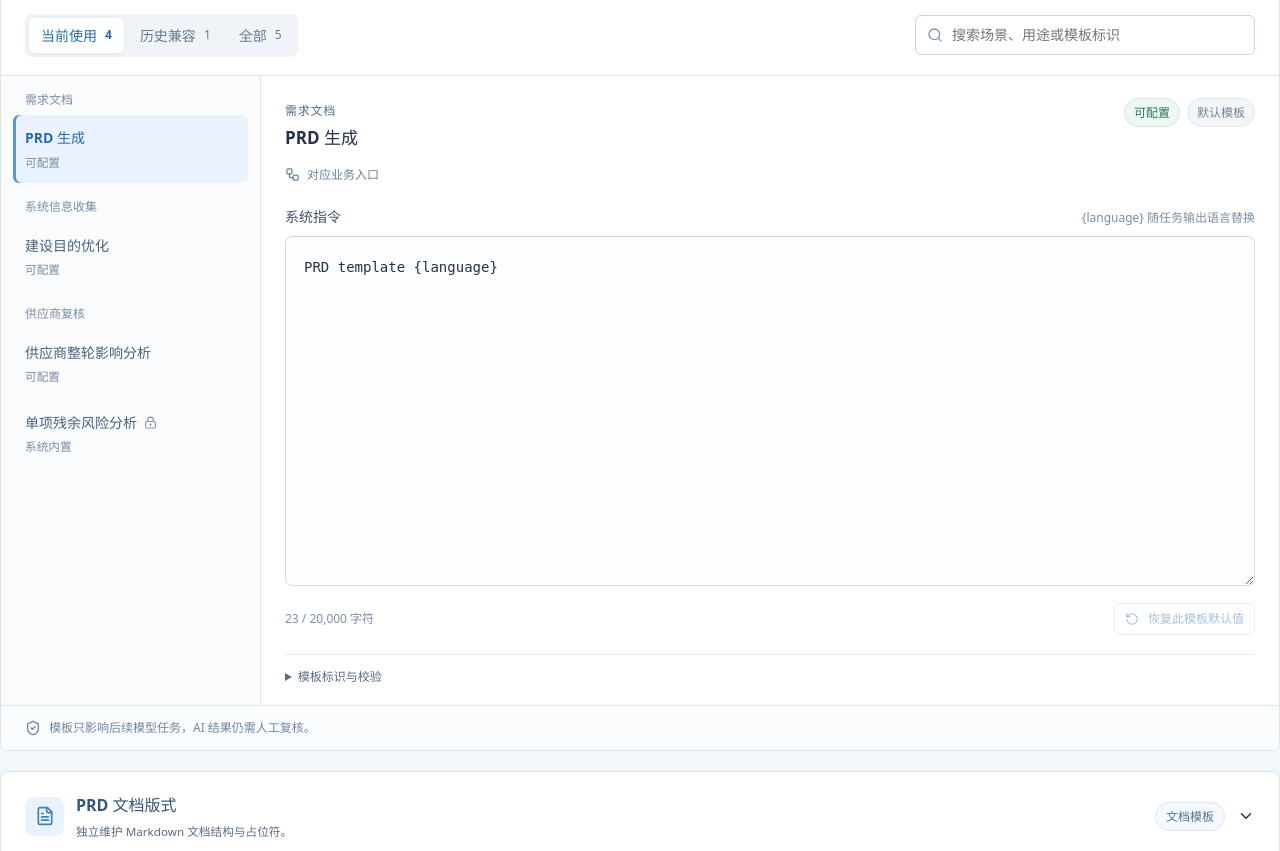
Scenario: separates legacy and fixed system instructions, supports search, and performs no writes
(page scrolled)
Expected: the button "应用说明整理" is not shown
Click the button "单项残余风险分析 系统内置" at (130, 434), box [13,400,248,467]
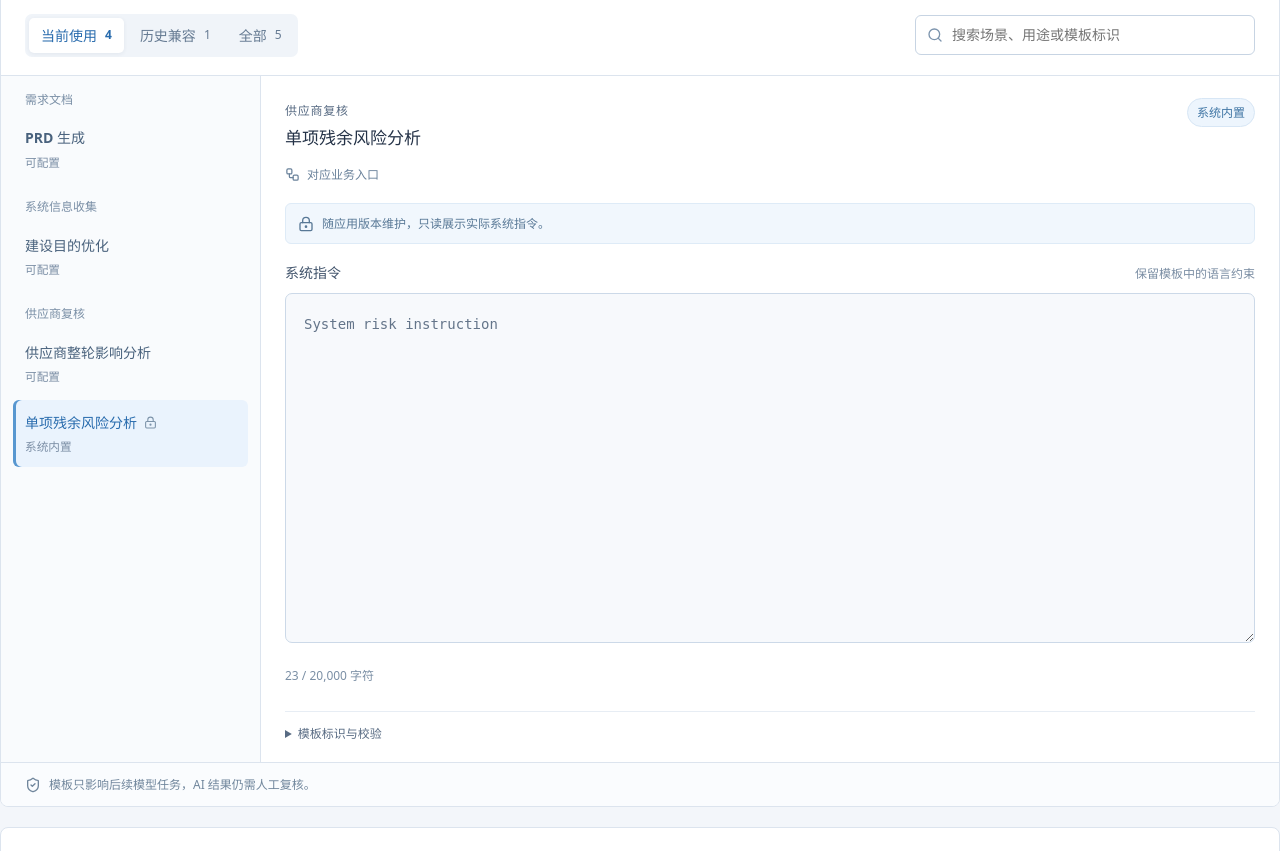
Expected: the text box named "单项残余风险分析" holds "System risk instruction", [285,293,1255,643]
Click the button "历史兼容 1" at (175, 35), box [128,18,223,53]
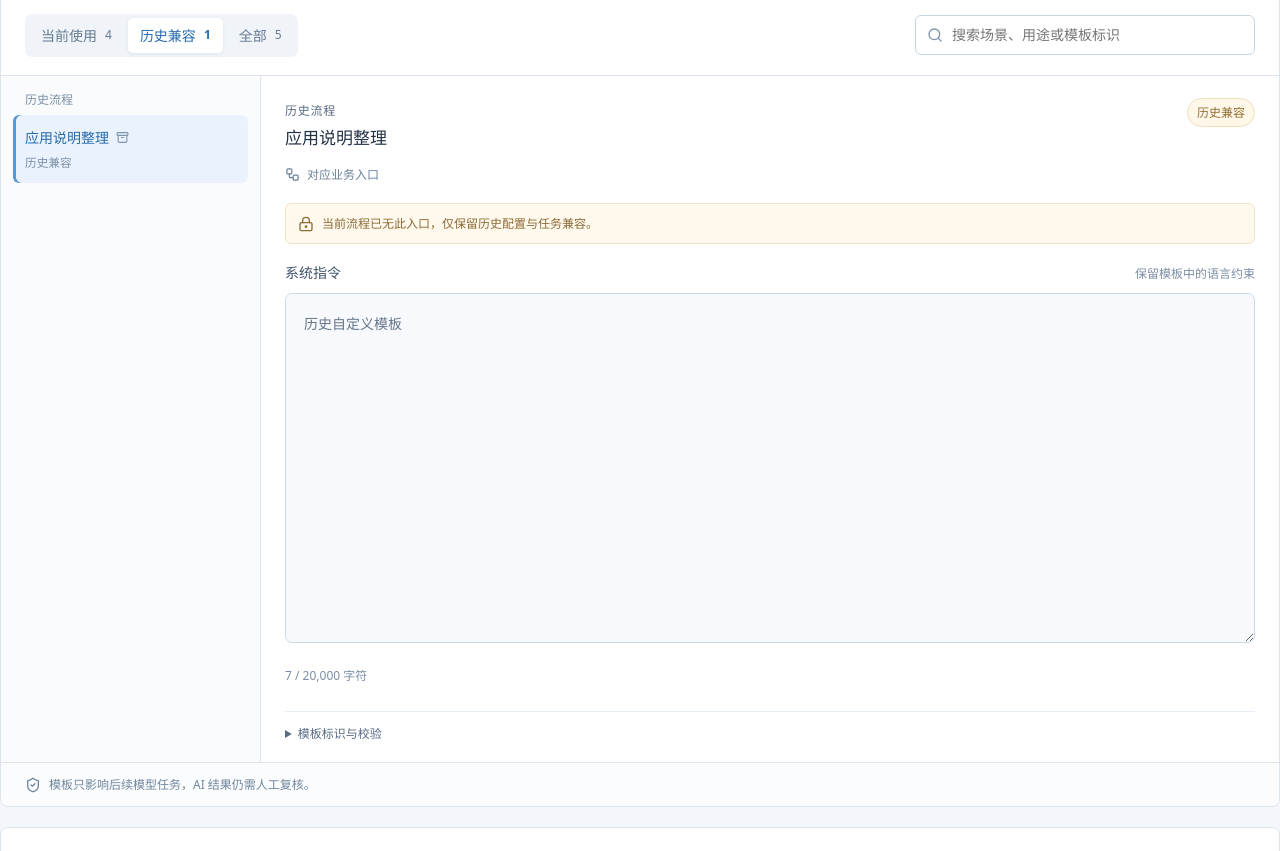
Expected: the text box named "应用说明整理" holds "历史自定义模板", [285,293,1255,643]
Type "not-a-template" into the field named "搜索提示词" at (1085, 35), box [915,15,1255,55]
(page scrolled)
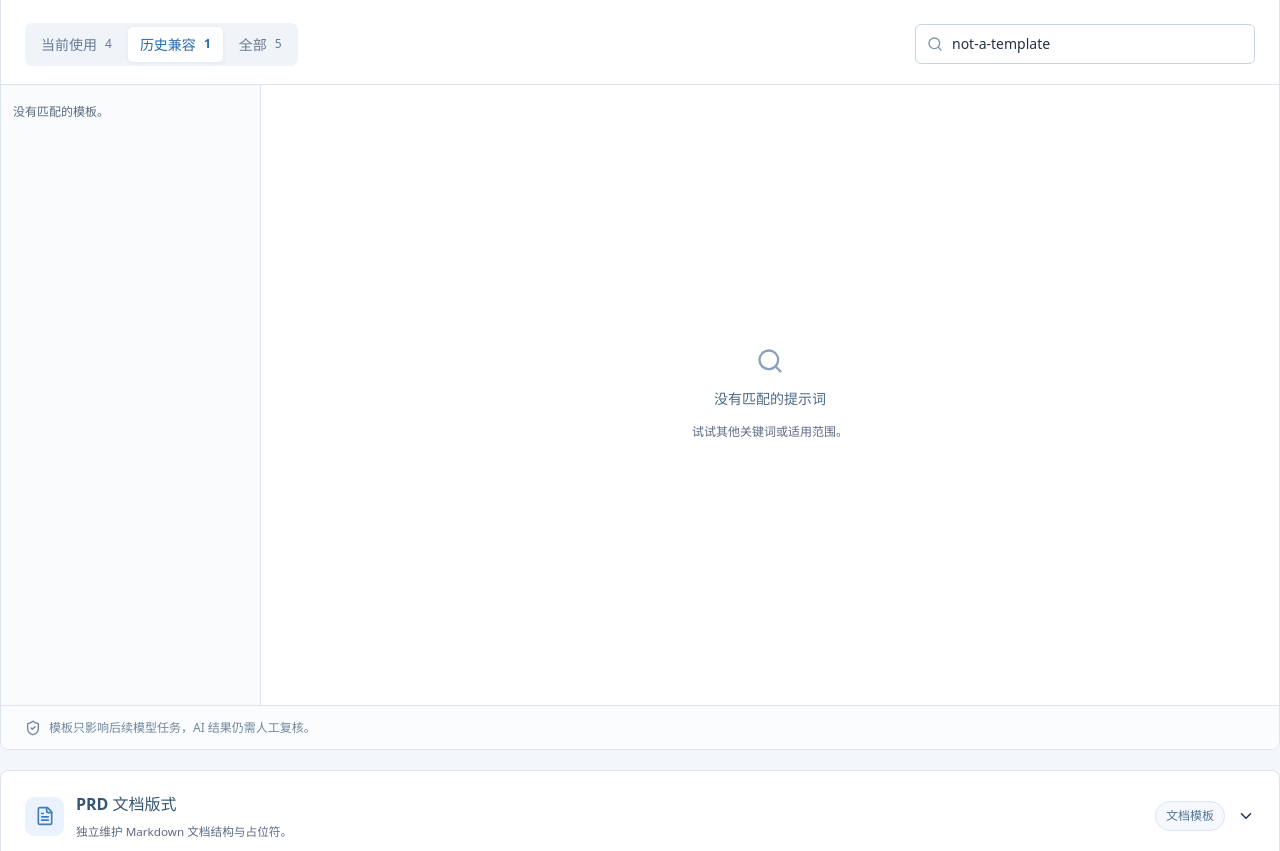
Expected: the text "没有匹配的提示词" is shown, [714,387,826,410]
